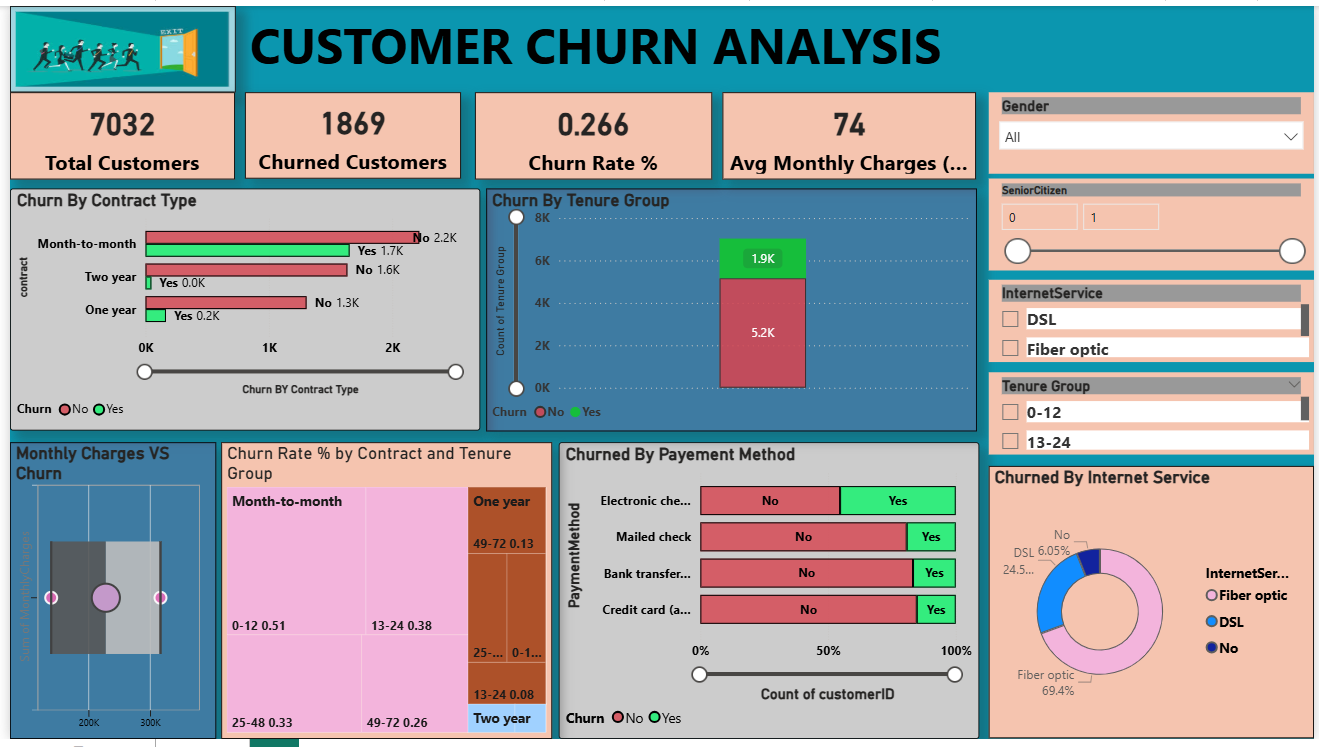

The page's visual inventory and layout, read from the dashboard file:
{"tool":"powerbi","page":{"name":"Page 1","canvas":[1280,720],"ordinal":0},"visuals":[{"type":"textbox","box":[230.7,0,701.8,84.7],"z":0},{"type":"image","box":[0,0,221.2,85],"z":1000},{"type":"card","fields":{"Values":["customer chrun data.Total Customers"]},"box":[0,84.7,220.9,85.9],"z":2000},{"type":"card","fields":{"Values":["customer chrun data.Churned Customers"]},"box":[230.7,84.7,212.3,84.7],"z":3000},{"type":"card","fields":{"Values":["customer chrun data.Churn Rate %"]},"box":[456.4,84.7,233.1,85.9],"z":4000},{"type":"card","fields":{"Values":["customer chrun data.Avg Monthly Charges (Churned)"]},"box":[699.4,84.7,249.1,85.9],"z":5000},{"type":"clusteredBarChart","title":"Churn By Contract Type","fields":{"Category":["customer chrun data.Contract"],"Series":["customer chrun data.Churn"],"Y":["CountNonNull(customer chrun data.customerID)"]},"box":[0,178.8,461.2,237.5],"z":6000},{"type":"hundredPercentStackedBarChart","title":"Churned By Payement Method","fields":{"Series":["customer chrun data.Churn"],"Y":["CountNonNull(customer chrun data.customerID)"],"Category":["customer chrun data.PaymentMethod"]},"box":[538.8,428.8,412.5,291.2],"z":7000},{"type":"columnChart","title":"Churn By Tenure Group","fields":{"Series":["customer chrun data.Churn"],"Y":["CountNonNull(customer chrun data.Tenure Group)"]},"box":[467.5,178.8,481.2,238.8],"z":8000},{"type":"BoxandWhiskerByMAQ1823AD39DT234AB532063E128AX","title":"Monthly Charges VS Churn","fields":{"category":["customer chrun data.Churn"],"measure":["Sum(customer chrun data.MonthlyCharges)"]},"box":[0,428.8,202.5,291.2],"z":9000},{"type":"donutChart","title":"Churned By Internet Service","fields":{"Category":["customer chrun data.InternetService"],"Y":["customer chrun data.Churned Customers"]},"box":[960.7,451.5,319,267.5],"z":10000},{"type":"treemap","fields":{"Group":["customer chrun data.Contract"],"Details":["customer chrun data.Tenure Group"],"Values":["customer chrun data.Churn Rate %"]},"box":[207.5,428.8,325,291.2],"z":11000},{"type":"slicer","fields":{"Values":["customer chrun data.gender"]},"box":[960.7,84.7,319,79.8],"z":12000},{"type":"slicer","fields":{"Values":["customer chrun data.SeniorCitizen"]},"box":[960.7,169.3,319,89.6],"z":13000},{"type":"slicer","fields":{"Values":["customer chrun data.InternetService"]},"box":[960.7,268.7,319,81],"z":14000},{"type":"slicer","fields":{"Values":["customer chrun data.Tenure Group"]},"box":[960.7,359.5,319,81],"z":15000}]}

Visuals, with their boxes in screenshot pixels (x1, y1, x2, y2), scaled from the page's 1280x720 canvas onto the 1319x747 screenshot:
textbox: <region>238, 0, 961, 88</region>
image: <region>0, 0, 228, 88</region>
card - customer chrun data.Total Customers: <region>0, 88, 228, 177</region>
card - customer chrun data.Churned Customers: <region>238, 88, 456, 176</region>
card - customer chrun data.Churn Rate %: <region>470, 88, 711, 177</region>
card - customer chrun data.Avg Monthly Charges (Churned): <region>721, 88, 977, 177</region>
"Churn By Contract Type" clusteredBarChart: <region>0, 186, 475, 432</region>
"Churned By Payement Method" hundredPercentStackedBarChart: <region>555, 445, 980, 746</region>
"Churn By Tenure Group" columnChart: <region>482, 186, 978, 433</region>
"Monthly Charges VS Churn" BoxandWhiskerByMAQ1823AD39DT234AB532063E128AX: <region>0, 445, 209, 746</region>
"Churned By Internet Service" donutChart: <region>990, 468, 1318, 746</region>
treemap - customer chrun data.Contract x customer chrun data.Tenure Group: <region>214, 445, 549, 746</region>
slicer - customer chrun data.gender: <region>990, 88, 1318, 171</region>
slicer - customer chrun data.SeniorCitizen: <region>990, 176, 1318, 269</region>
slicer - customer chrun data.InternetService: <region>990, 279, 1318, 363</region>
slicer - customer chrun data.Tenure Group: <region>990, 373, 1318, 457</region>
